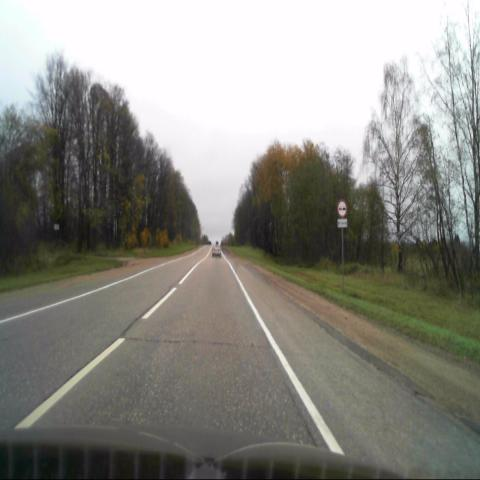3_20: (336, 198, 348, 217)
